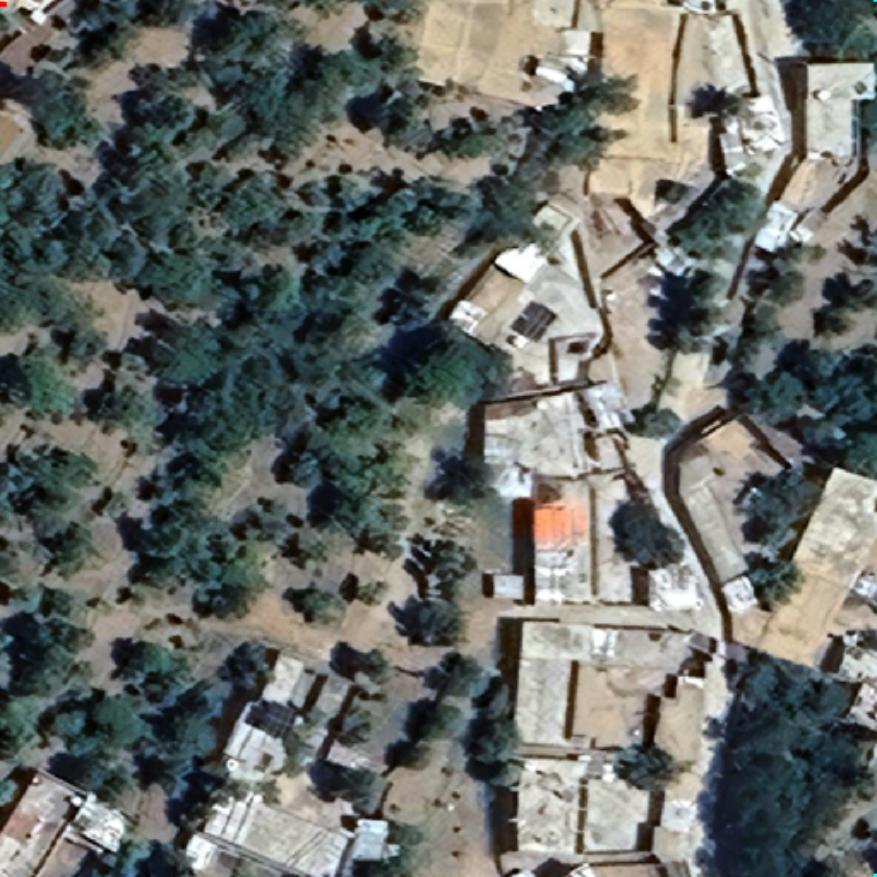Solarpanel: (509, 298, 560, 346), (255, 698, 299, 742)
